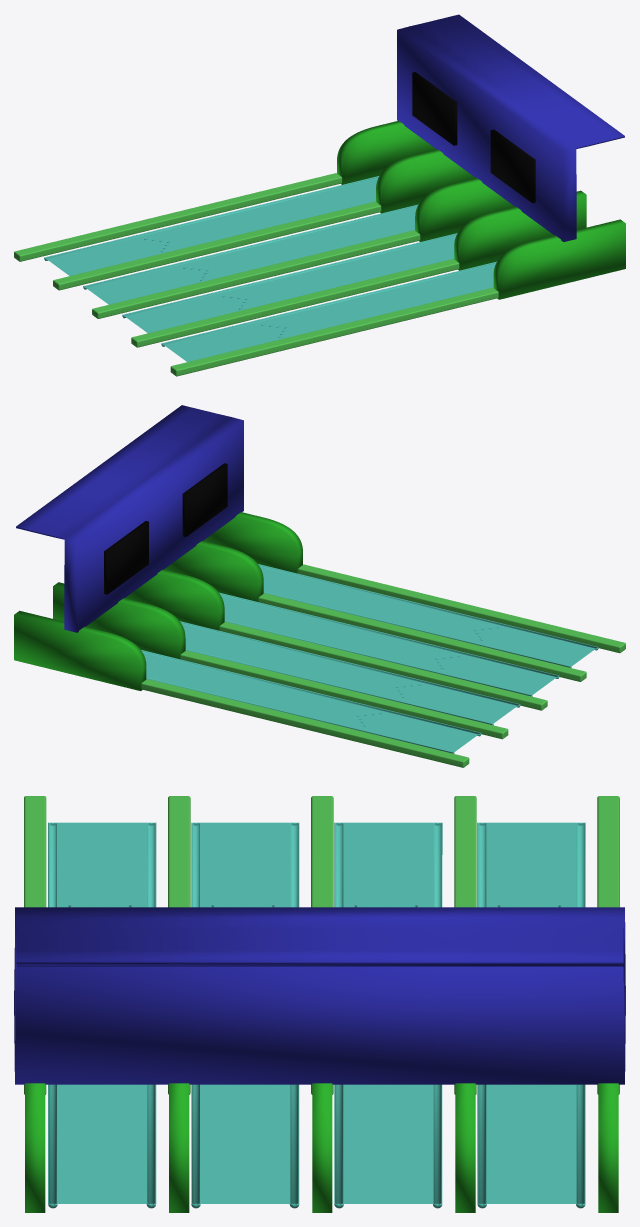
Rendered from BowlingAlley4Lanes.fbx.
3 views of the same model, one above another, from view 1: azimuth 30°, elevation 25°; view 2: azimuth 150°, elevation 25°; view 3: azimuth 270°, elevation 25° (orthographic). The views are drawn at different scales.
Visible parts, largest first — view 1: SpaceBowling_Bar:banner, SpaceBowling_Bar:alley_floor3, SpaceBowling_Bar:alley_floor2, SpaceBowling_Bar:alley_floor1, SpaceBowling_Bar:alley_floor, SpaceBowling_Bar:sidewall005, SpaceBowling_Bar:ChamferBox012, SpaceBowling_Bar:ChamferBox010, SpaceBowling_Bar:ChamferBox013, SpaceBowling_Bar:ChamferBox009, SpaceBowling_Bar:ChamferBox011, SpaceBowling_Bar:sidewall004 (+9 smaller); view 2: SpaceBowling_Bar:banner, SpaceBowling_Bar:alley_floor3, SpaceBowling_Bar:alley_floor2, SpaceBowling_Bar:alley_floor, SpaceBowling_Bar:alley_floor1, SpaceBowling_Bar:sidewall001, SpaceBowling_Bar:ChamferBox009, SpaceBowling_Bar:sidewall002, SpaceBowling_Bar:ChamferBox013, SpaceBowling_Bar:ChamferBox011, SpaceBowling_Bar:ChamferBox010, SpaceBowling_Bar:ChamferBox012 (+13 smaller); view 3: SpaceBowling_Bar:banner, SpaceBowling_Bar:alley_floor, SpaceBowling_Bar:alley_floor1, SpaceBowling_Bar:alley_floor2, SpaceBowling_Bar:alley_floor3, SpaceBowling_Bar:sidewall001, SpaceBowling_Bar:sidewall002, SpaceBowling_Bar:sidewall003, SpaceBowling_Bar:sidewall004, SpaceBowling_Bar:sidewall005, SpaceBowling_Bar:ChamferBox009, SpaceBowling_Bar:ChamferBox010 (+11 smaller).
Boxes of the visible parts, x1,y1,x2,y2 form: SpaceBowling_Bar:banner: (397, 14, 624, 241); SpaceBowling_Bar:alley_floor3: (164, 264, 495, 361); SpaceBowling_Bar:alley_floor2: (125, 236, 455, 333); SpaceBowling_Bar:alley_floor1: (86, 207, 416, 304); SpaceBowling_Bar:alley_floor: (47, 178, 377, 275); SpaceBowling_Bar:sidewall005: (493, 219, 625, 299); SpaceBowling_Bar:ChamferBox012: (131, 259, 459, 347); SpaceBowling_Bar:ChamferBox010: (53, 201, 381, 290); SpaceBowling_Bar:ChamferBox013: (170, 287, 498, 376); SpaceBowling_Bar:ChamferBox009: (14, 173, 342, 261); SpaceBowling_Bar:ChamferBox011: (92, 230, 420, 318); SpaceBowling_Bar:sidewall004: (454, 190, 586, 270); SpaceBowling_Bar:banner: (16, 405, 243, 632); SpaceBowling_Bar:alley_floor3: (260, 566, 595, 666); SpaceBowling_Bar:alley_floor2: (221, 595, 556, 694); SpaceBowling_Bar:alley_floor: (143, 652, 478, 752); SpaceBowling_Bar:alley_floor1: (182, 624, 517, 723); SpaceBowling_Bar:sidewall001: (14, 610, 146, 690); SpaceBowling_Bar:ChamferBox009: (141, 679, 469, 767); SpaceBowling_Bar:sidewall002: (53, 582, 185, 659); SpaceBowling_Bar:ChamferBox013: (297, 564, 625, 653); SpaceBowling_Bar:ChamferBox011: (219, 622, 547, 710); SpaceBowling_Bar:ChamferBox010: (180, 650, 508, 739); SpaceBowling_Bar:ChamferBox012: (258, 593, 586, 681); SpaceBowling_Bar:banner: (14, 907, 625, 1084); SpaceBowling_Bar:alley_floor: (486, 822, 576, 1203); SpaceBowling_Bar:alley_floor1: (343, 822, 433, 1203); SpaceBowling_Bar:alley_floor2: (200, 822, 290, 1203); SpaceBowling_Bar:alley_floor3: (57, 822, 147, 1203); SpaceBowling_Bar:sidewall001: (598, 1083, 618, 1212); SpaceBowling_Bar:sidewall002: (455, 1083, 475, 1212); SpaceBowling_Bar:sidewall003: (312, 1083, 332, 1212); SpaceBowling_Bar:sidewall004: (169, 1083, 189, 1212); SpaceBowling_Bar:sidewall005: (25, 1083, 45, 1212); SpaceBowling_Bar:ChamferBox009: (597, 796, 619, 1094); SpaceBowling_Bar:ChamferBox010: (454, 796, 476, 1094).
Size of the model in its own units: 2109 by 608 by 1357.
